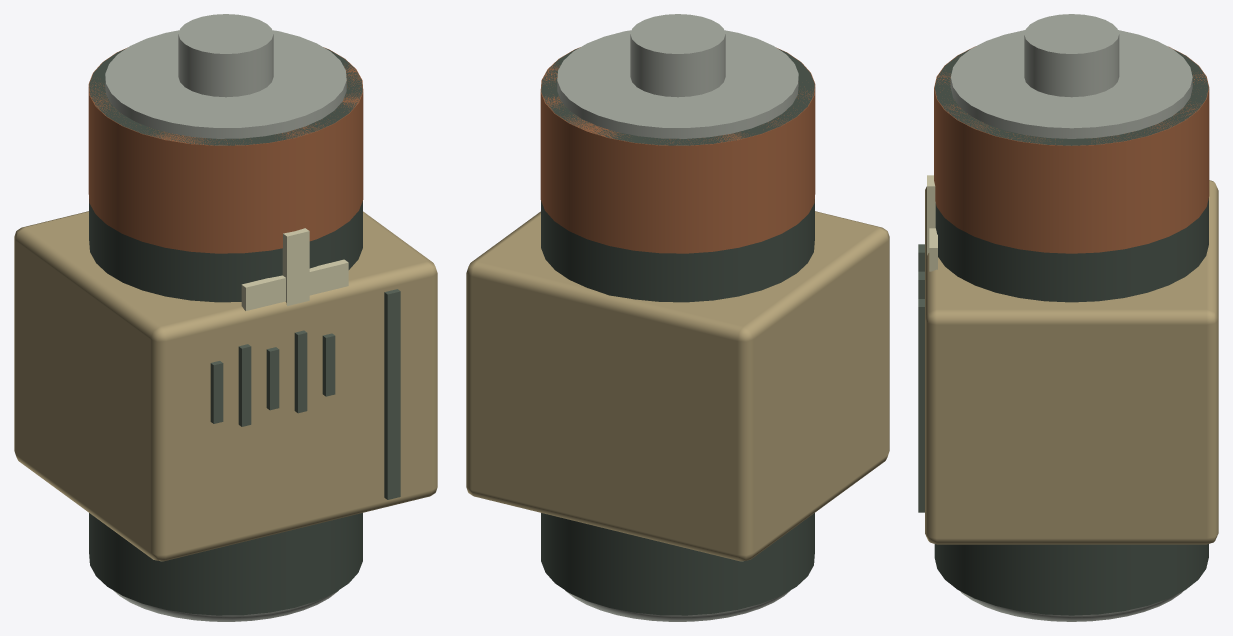
The model's file is sealed-cells-b3.glb.
The picture shows the model from 3 angles, left to right: view 1: azimuth 30°, elevation 25°; view 2: azimuth 150°, elevation 25°; view 3: azimuth 270°, elevation 25°; orthographic projection.
Parts seen in each view (by area): view 1: sealed-cells-b3; view 2: sealed-cells-b3; view 3: sealed-cells-b3.
Part boxes in pixels (bbox=[...]): sealed-cells-b3: bbox=[14, 14, 437, 621]; sealed-cells-b3: bbox=[466, 14, 889, 621]; sealed-cells-b3: bbox=[918, 14, 1218, 621].
Size of the model in its own units: 0.0306 by 0.0548 by 0.0278.
